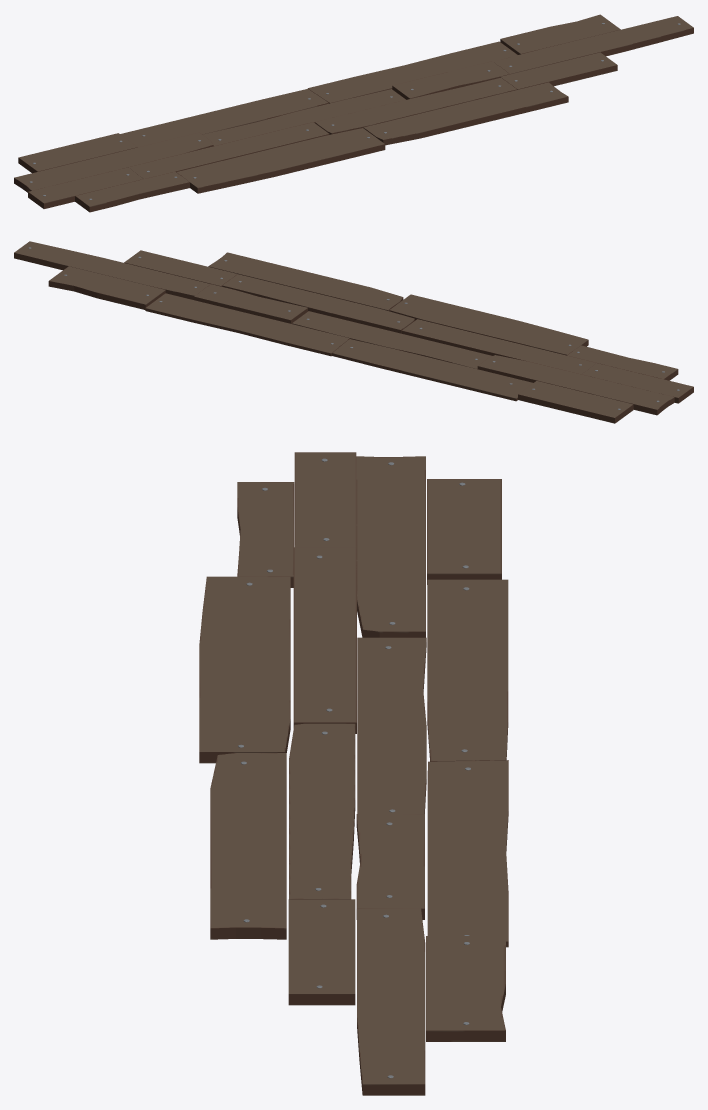
The model's file is Planks_Wide.fbx.
The picture shows the model from 3 angles, top to bottom: view 1: azimuth 30°, elevation 25°; view 2: azimuth 150°, elevation 25°; view 3: azimuth 270°, elevation 25°; orthographic projection. The views are drawn at different scales.
Visible parts, largest first — view 1: Planks_Wide; view 2: Planks_Wide; view 3: Planks_Wide.
Part boxes in pixels (bbox=[...]): Planks_Wide: bbox=[14, 14, 693, 212]; Planks_Wide: bbox=[14, 241, 693, 423]; Planks_Wide: bbox=[199, 452, 508, 1095].
Size of the model in its own units: 430 by 3.93 by 89.06.
